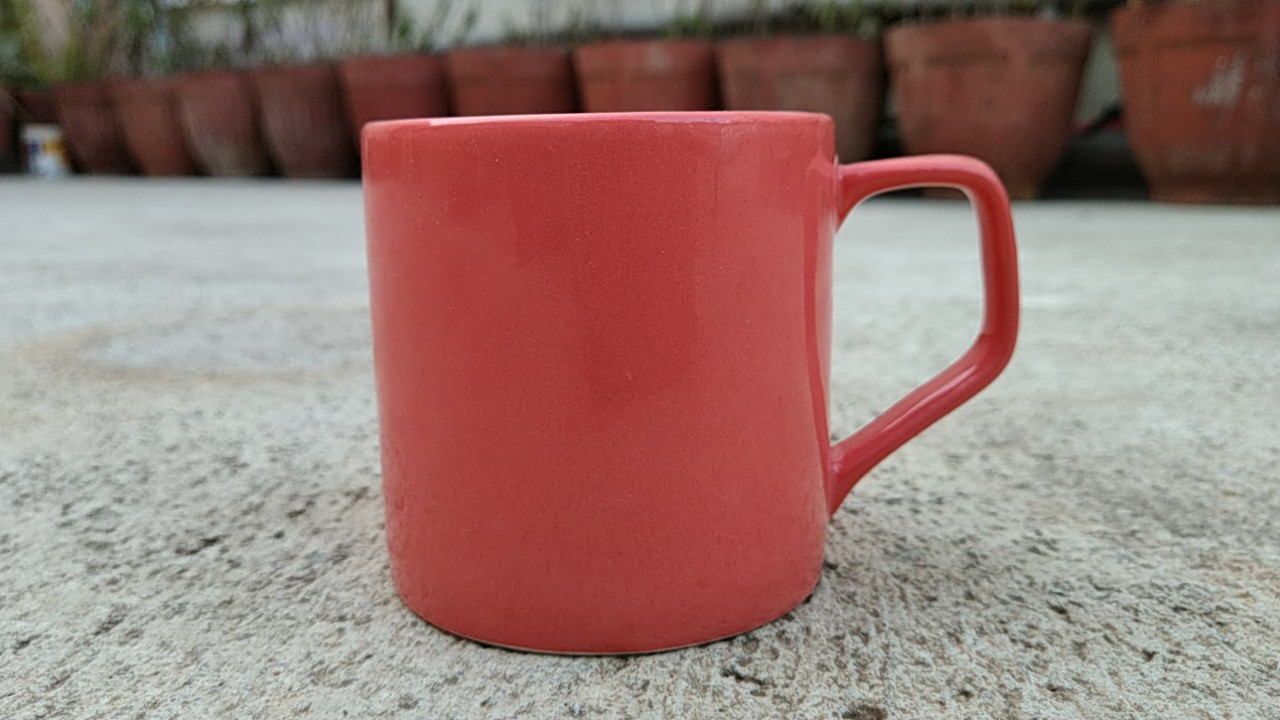cup: (342, 99, 1031, 670)
